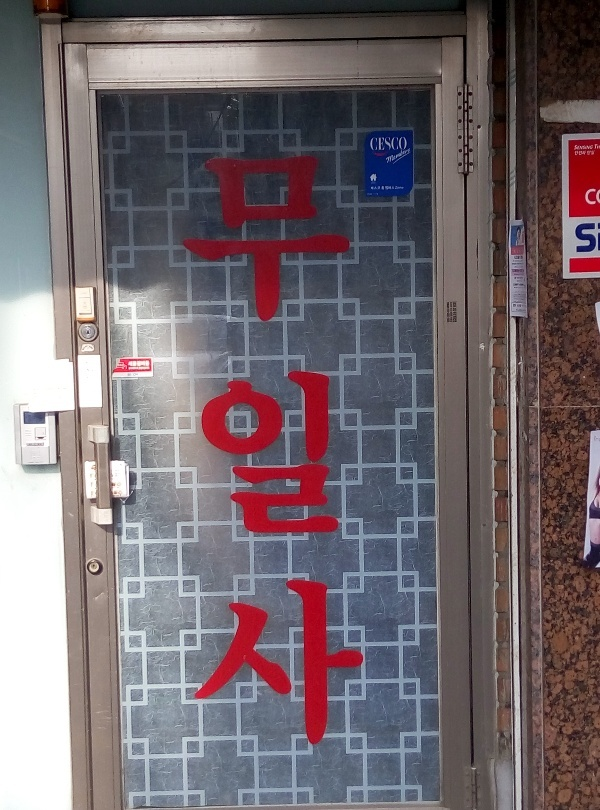text: (193, 154, 208, 767), (209, 154, 224, 767), (225, 154, 240, 767), (241, 154, 256, 767), (257, 154, 272, 767), (273, 154, 288, 767), (289, 154, 304, 767), (305, 154, 320, 767), (321, 154, 336, 767), (337, 154, 352, 767), (178, 154, 192, 767), (353, 154, 367, 767), (513, 246, 527, 315), (577, 222, 592, 254), (385, 145, 400, 165), (369, 137, 384, 152), (385, 137, 400, 152), (593, 222, 600, 254), (401, 145, 411, 165), (449, 301, 457, 325), (585, 188, 592, 206), (593, 188, 600, 206), (129, 360, 144, 367), (577, 144, 592, 151), (401, 137, 408, 152), (385, 185, 400, 191), (511, 246, 512, 315), (371, 186, 384, 191), (129, 366, 144, 370), (577, 151, 587, 157), (369, 192, 380, 197), (594, 435, 600, 443), (446, 301, 448, 325), (392, 185, 400, 191), (129, 373, 139, 377), (145, 360, 150, 367), (33, 443, 44, 446), (575, 222, 576, 254), (595, 144, 600, 150), (587, 150, 592, 156), (396, 184, 400, 191), (401, 184, 405, 191), (145, 366, 151, 370), (593, 150, 596, 156), (27, 443, 32, 446), (574, 151, 576, 157), (382, 185, 384, 191), (575, 144, 576, 151), (593, 144, 594, 151), (367, 192, 368, 197)
